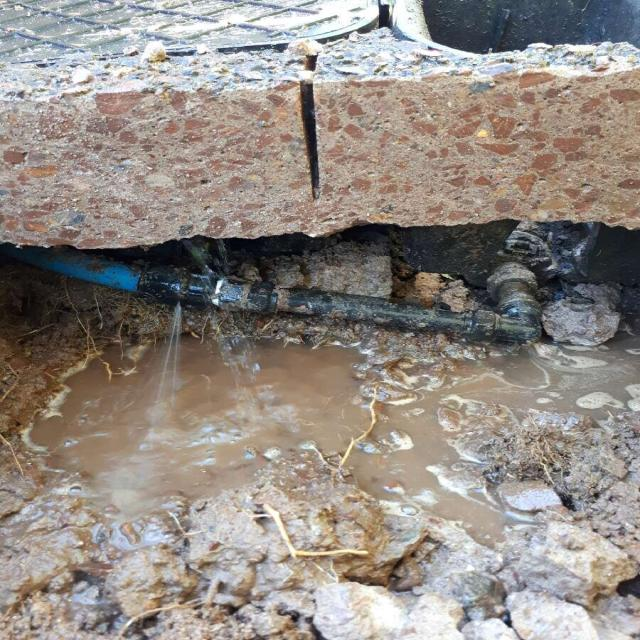leak: (148, 304, 182, 426)
